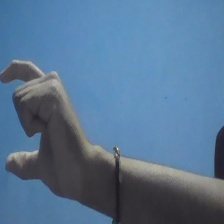G: (1, 54, 87, 202)
